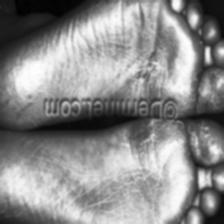Non-Cancerous Skin Condition: (120, 124, 176, 212)
